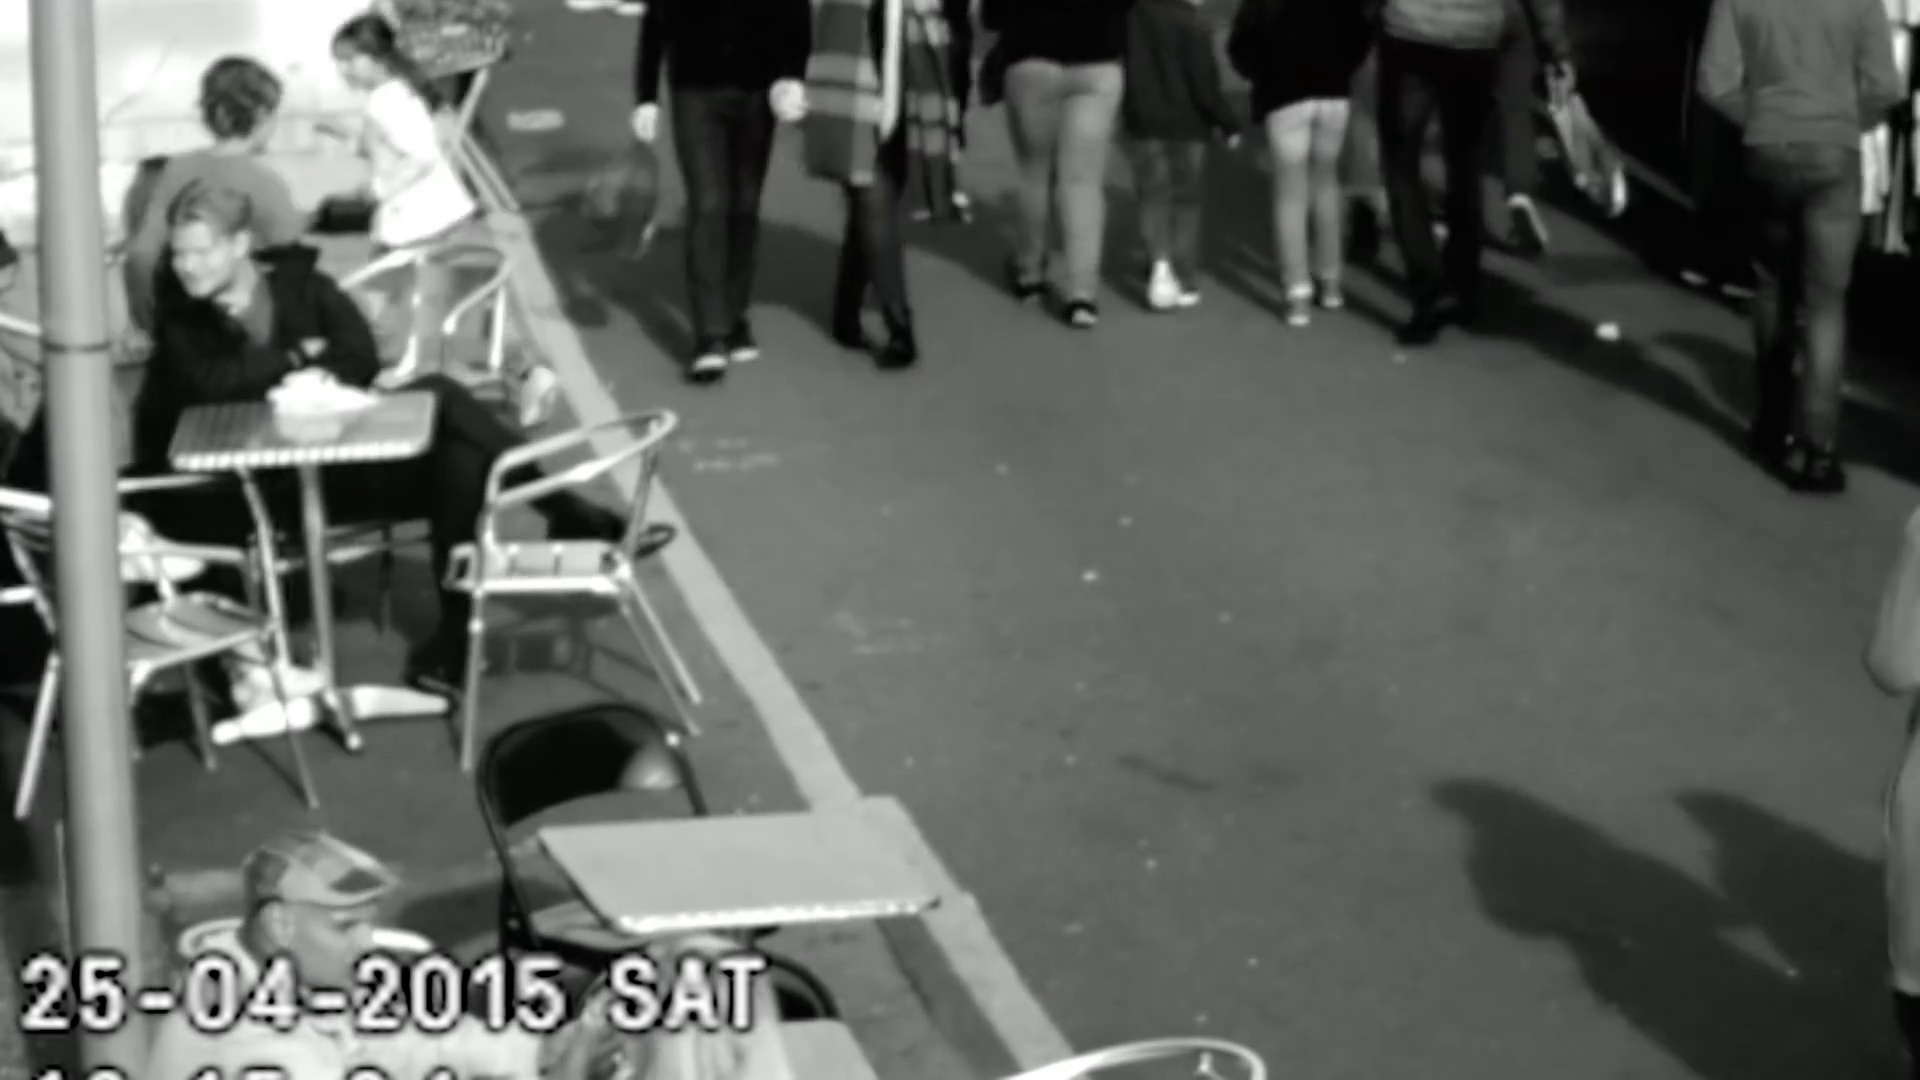face: (170, 226, 223, 292)
